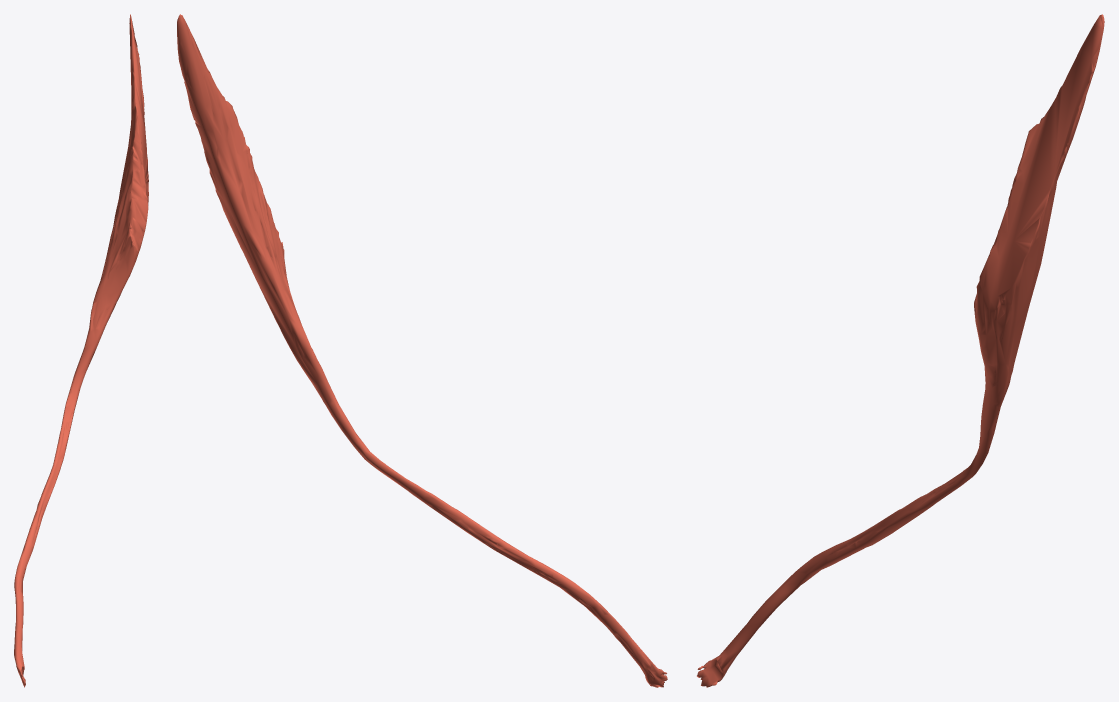
Rendered from extensor-pollicis-longus.glb.
3 views of the same model, side by side, from view 1: azimuth 30°, elevation 25°; view 2: azimuth 150°, elevation 25°; view 3: azimuth 270°, elevation 25° (orthographic). The views are drawn at different scales.
Visible parts, largest first — view 1: Extensor pollicis longus.r; view 2: Extensor pollicis longus.r; view 3: Extensor pollicis longus.r.
Boxes of the visible parts, x1,y1,x2,y2 form: Extensor pollicis longus.r: [14, 14, 148, 687]; Extensor pollicis longus.r: [177, 14, 667, 687]; Extensor pollicis longus.r: [697, 14, 1104, 687].
Bounding box in the file's own units: 0.0983 × 0.2091 × 0.0906.
